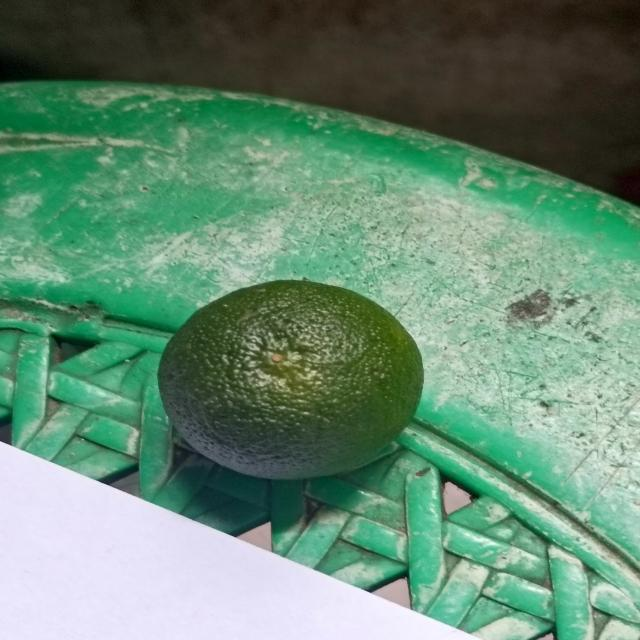heathy: (156, 279, 426, 483)
